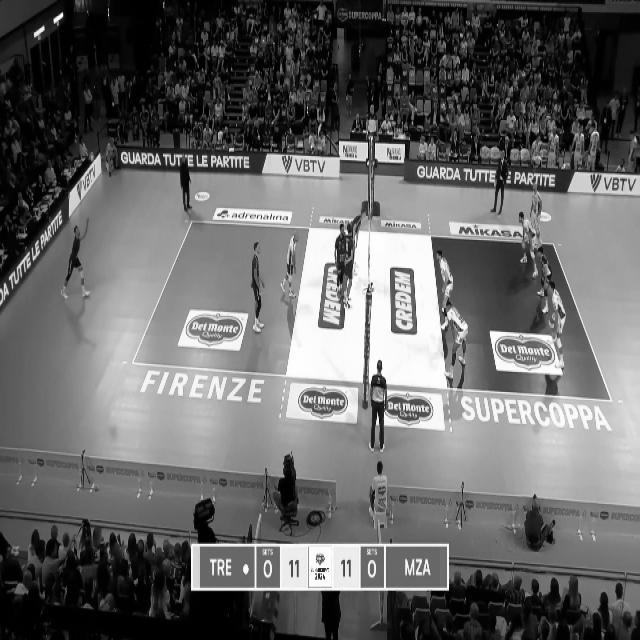volleyball court: (130, 219, 612, 403)
